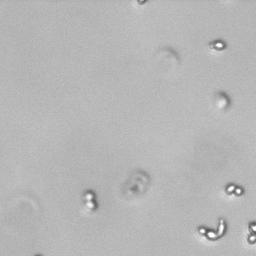budding: (83, 191, 98, 210), (225, 183, 244, 196), (246, 221, 256, 245)
cluster: (197, 217, 229, 242)
individual: (213, 40, 225, 50)
